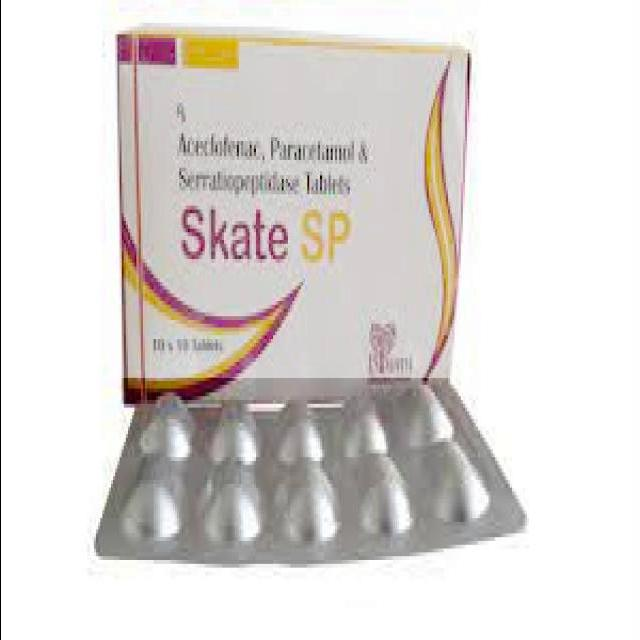authentic: (106, 16, 468, 394), (82, 378, 532, 594)
